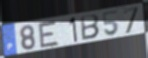1: (69, 16, 79, 43)
5: (101, 8, 120, 37)
7: (123, 7, 139, 35)
8: (19, 24, 37, 51)
B: (80, 13, 101, 42)
E: (37, 20, 60, 49)
